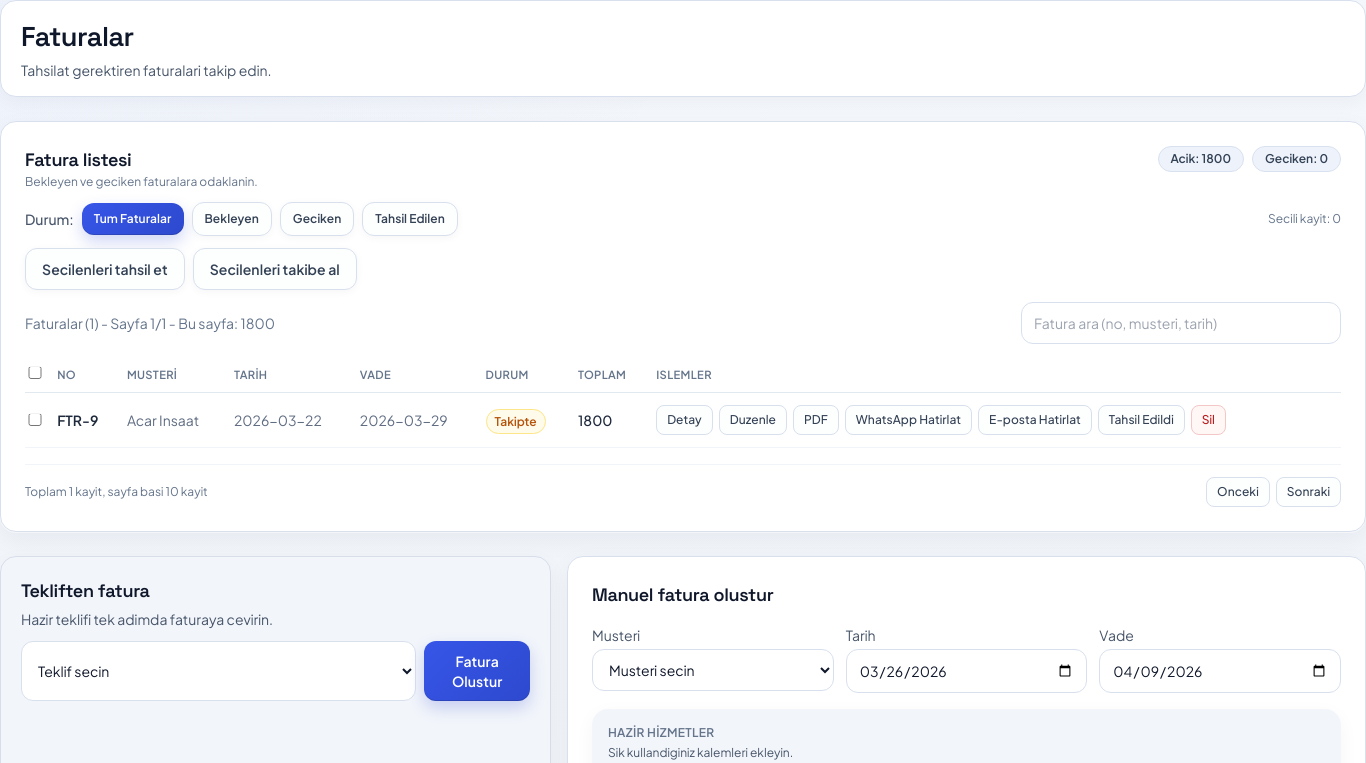
Scenario: InvoicesPage › edits and deletes invoice from list actions
Click the button "Duzenle" at (753, 420), box [719,405,787,435]
(page scrolled)
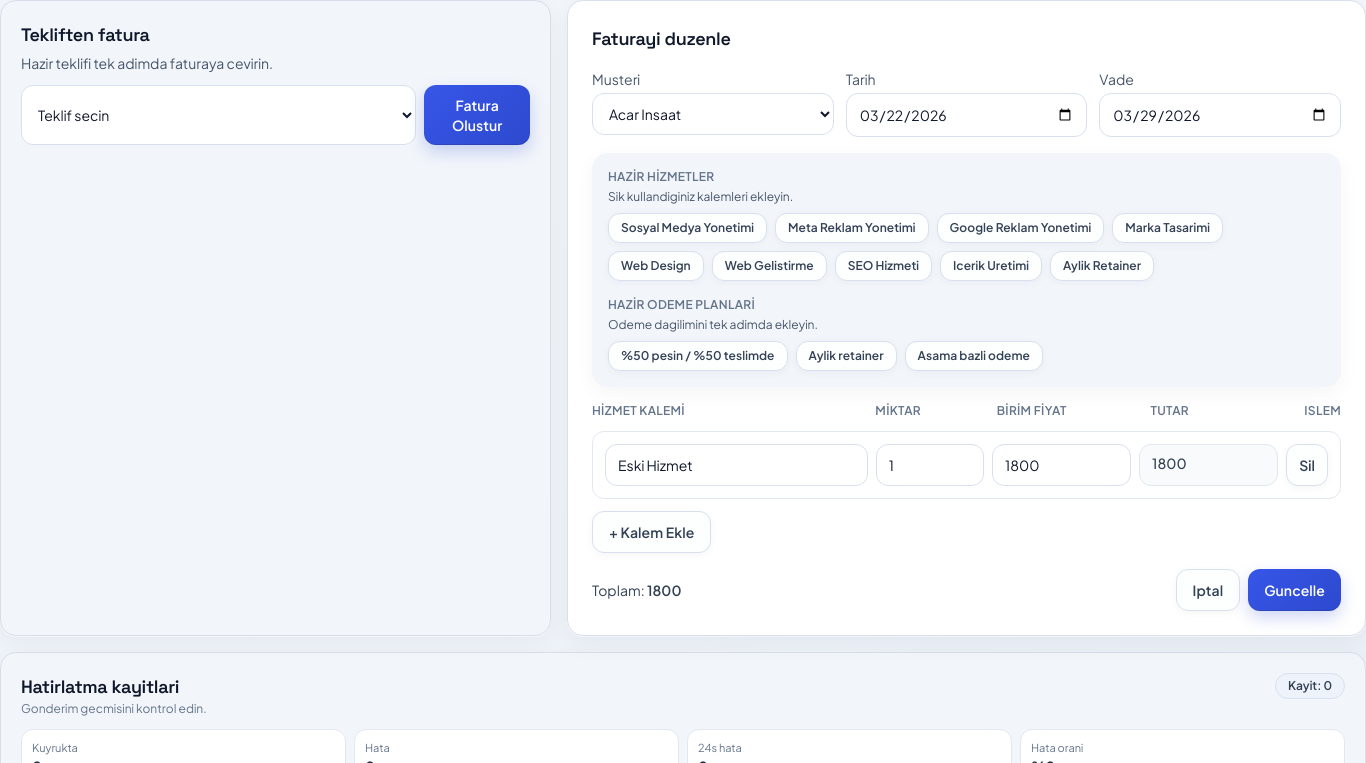
Expected: the button "Guncelle" is shown, [1248,569,1341,611]
Replace the text in the field with placeholder "Hizmet kalemi adi" with "Guncel Hizmet" at (736, 465), box [605,444,868,486]
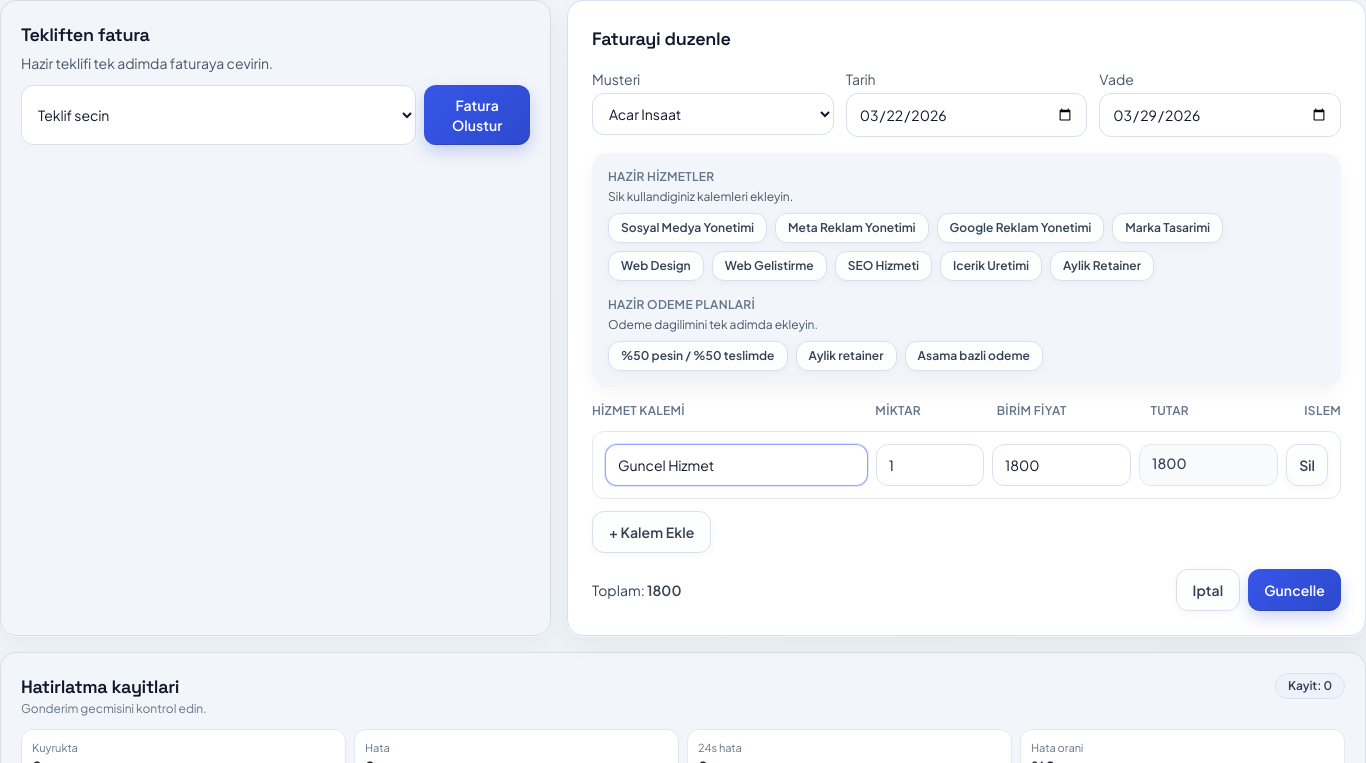
Click the button "Guncelle" at (1295, 590), box [1248,569,1341,611]
(page scrolled)
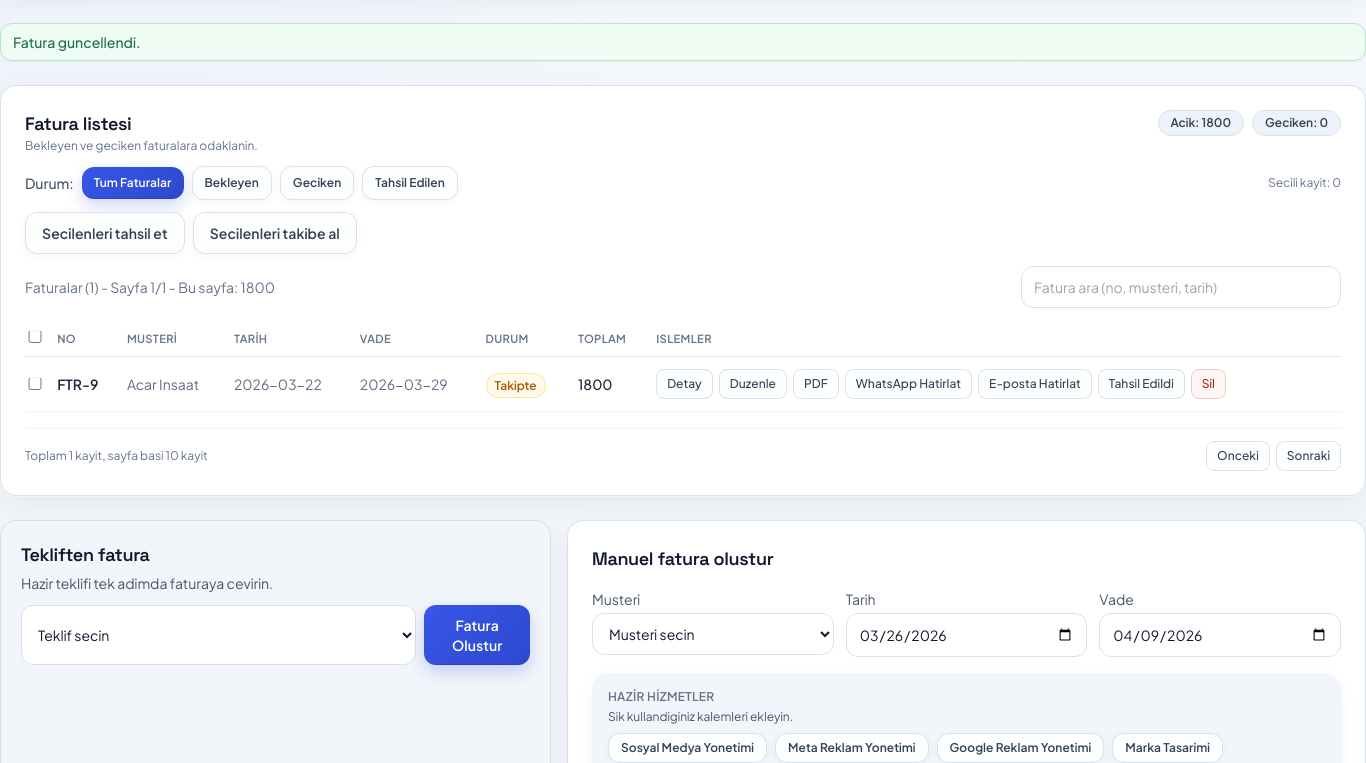
Click the button "Sil" at (1208, 384), box [1191,369,1226,399]
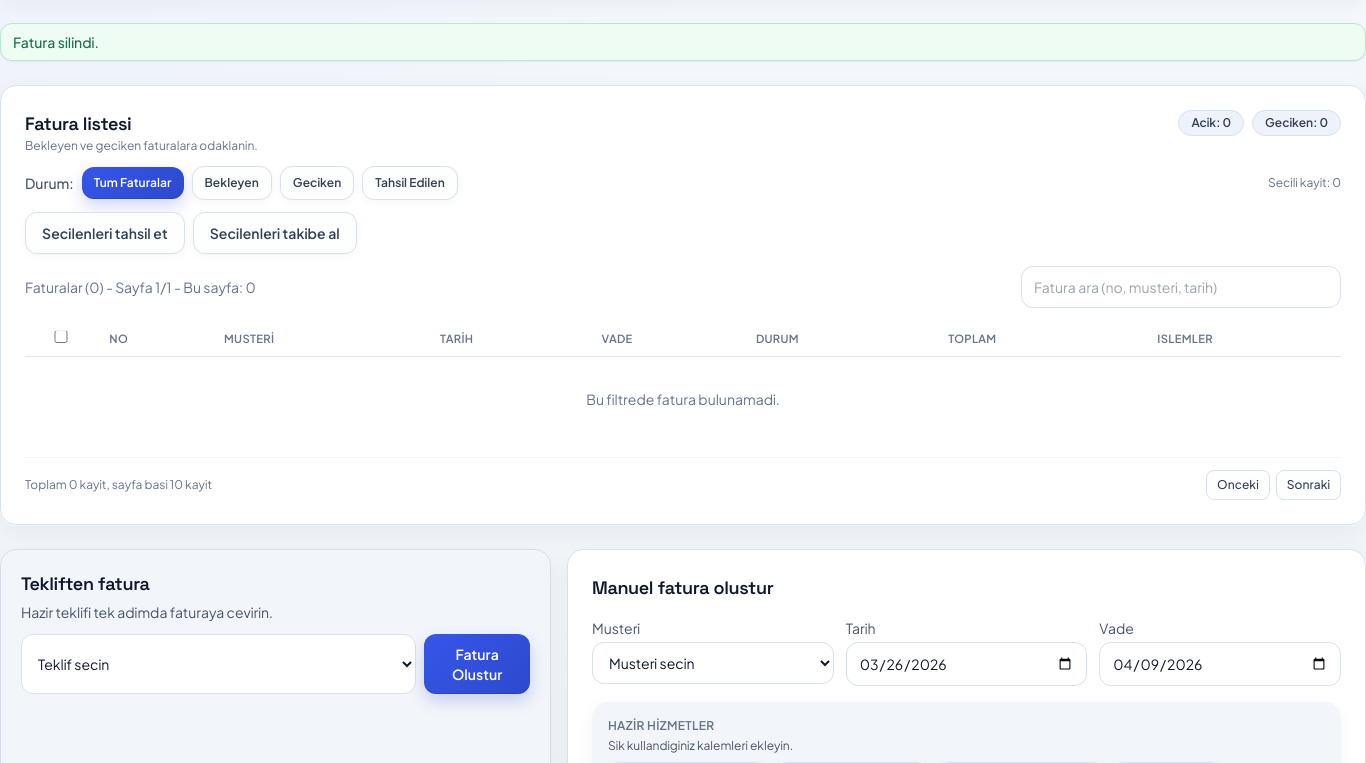
Expected: the text "Fatura silindi." is shown, [0,23,1365,61]
